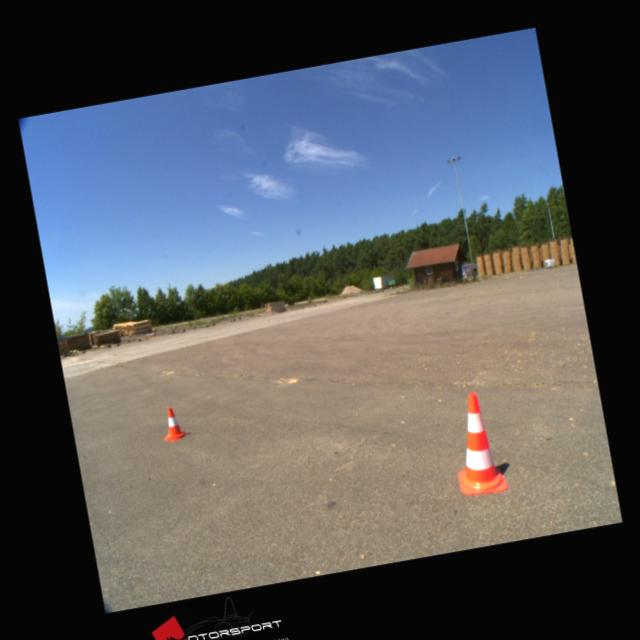large_orange_cone: (443, 388, 507, 497)
orange_cone: (158, 404, 188, 441)
